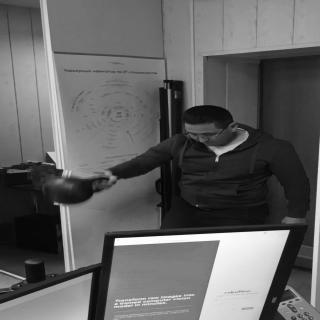kettlebell: (39, 171, 117, 210)
